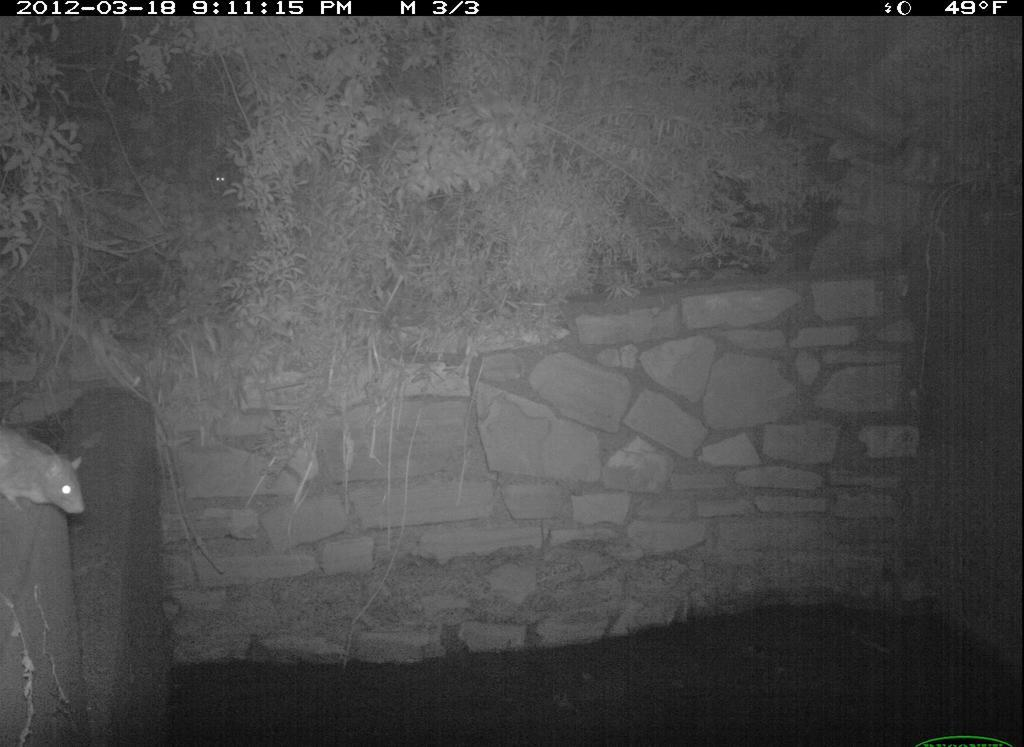rodent: (2, 423, 104, 525), (203, 156, 242, 200)
